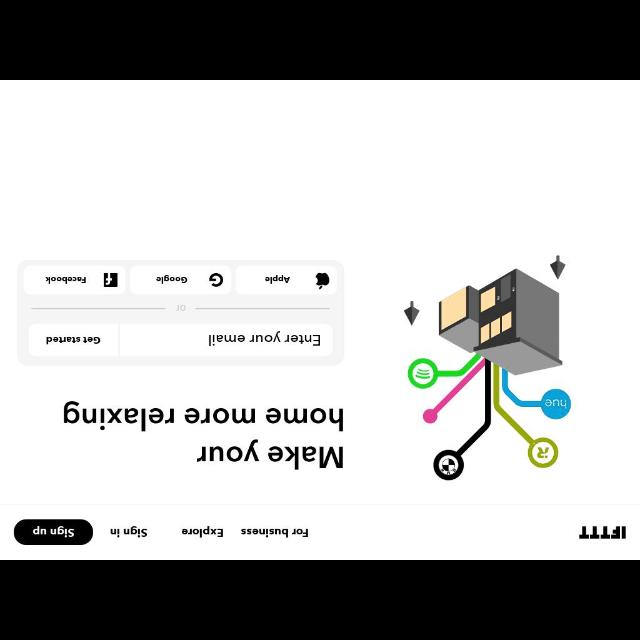icon: (209, 272, 225, 288), (316, 272, 330, 290), (104, 273, 116, 287)
image: (403, 254, 573, 481)
input: (120, 322, 332, 356)
text: (63, 399, 343, 468), (208, 332, 320, 346), (580, 522, 626, 540), (242, 527, 308, 537), (33, 524, 76, 538), (48, 334, 100, 344), (182, 526, 224, 538), (111, 526, 147, 538), (46, 274, 86, 284), (156, 274, 188, 284), (266, 272, 290, 284), (176, 302, 187, 312)
textbutton: (236, 266, 334, 296), (30, 324, 119, 356), (128, 267, 230, 293), (25, 268, 123, 294), (13, 518, 93, 544)
